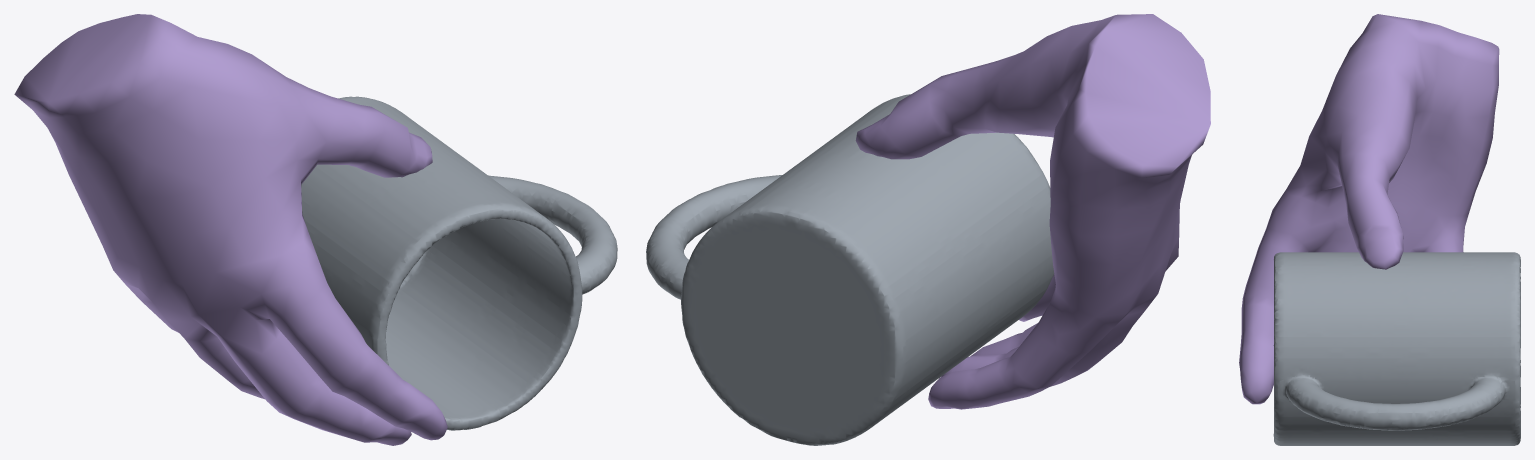
The model's file is ours_0.glb.
3 views of the same model, side by side, from view 1: azimuth 30°, elevation 25°; view 2: azimuth 150°, elevation 25°; view 3: azimuth 270°, elevation 25° (orthographic). The views are drawn at different scales.
Size of the model in its own units: 0.2095 by 0.1615 by 0.1196.
